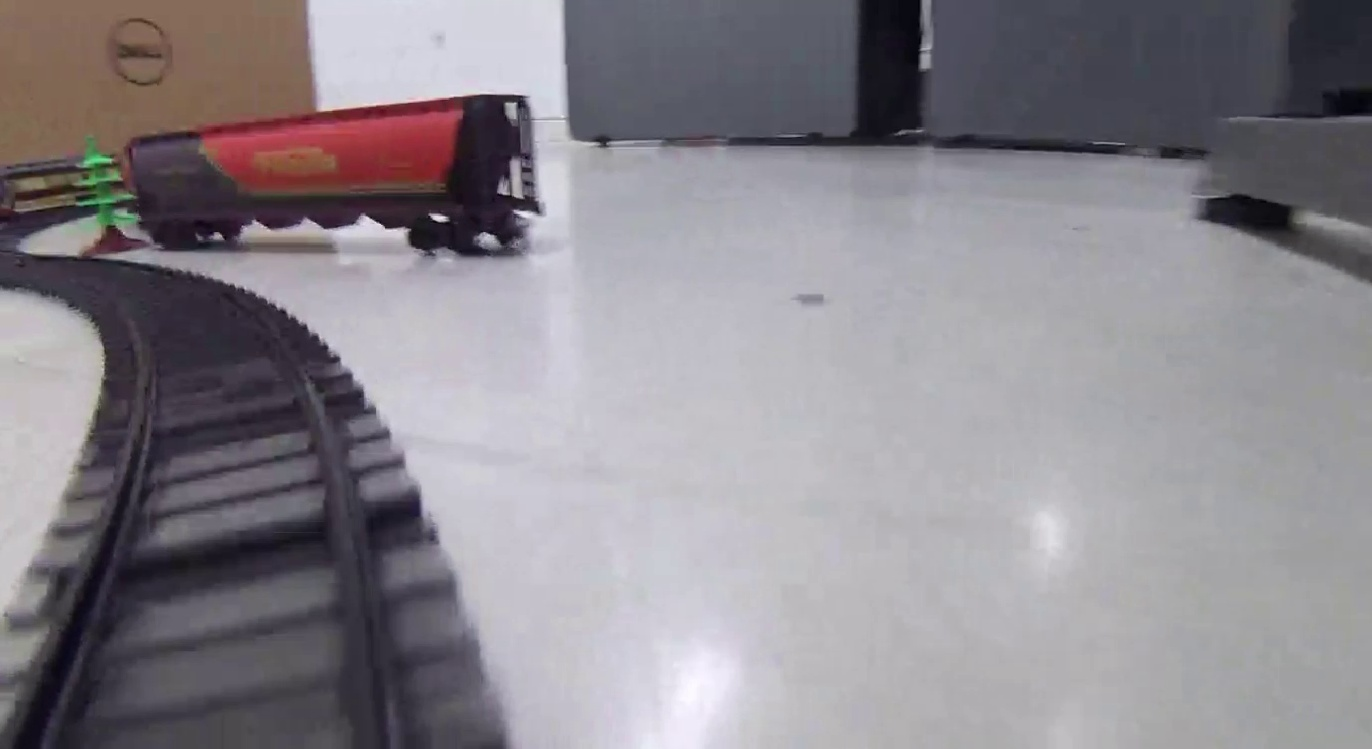tree: (72, 134, 136, 256)
